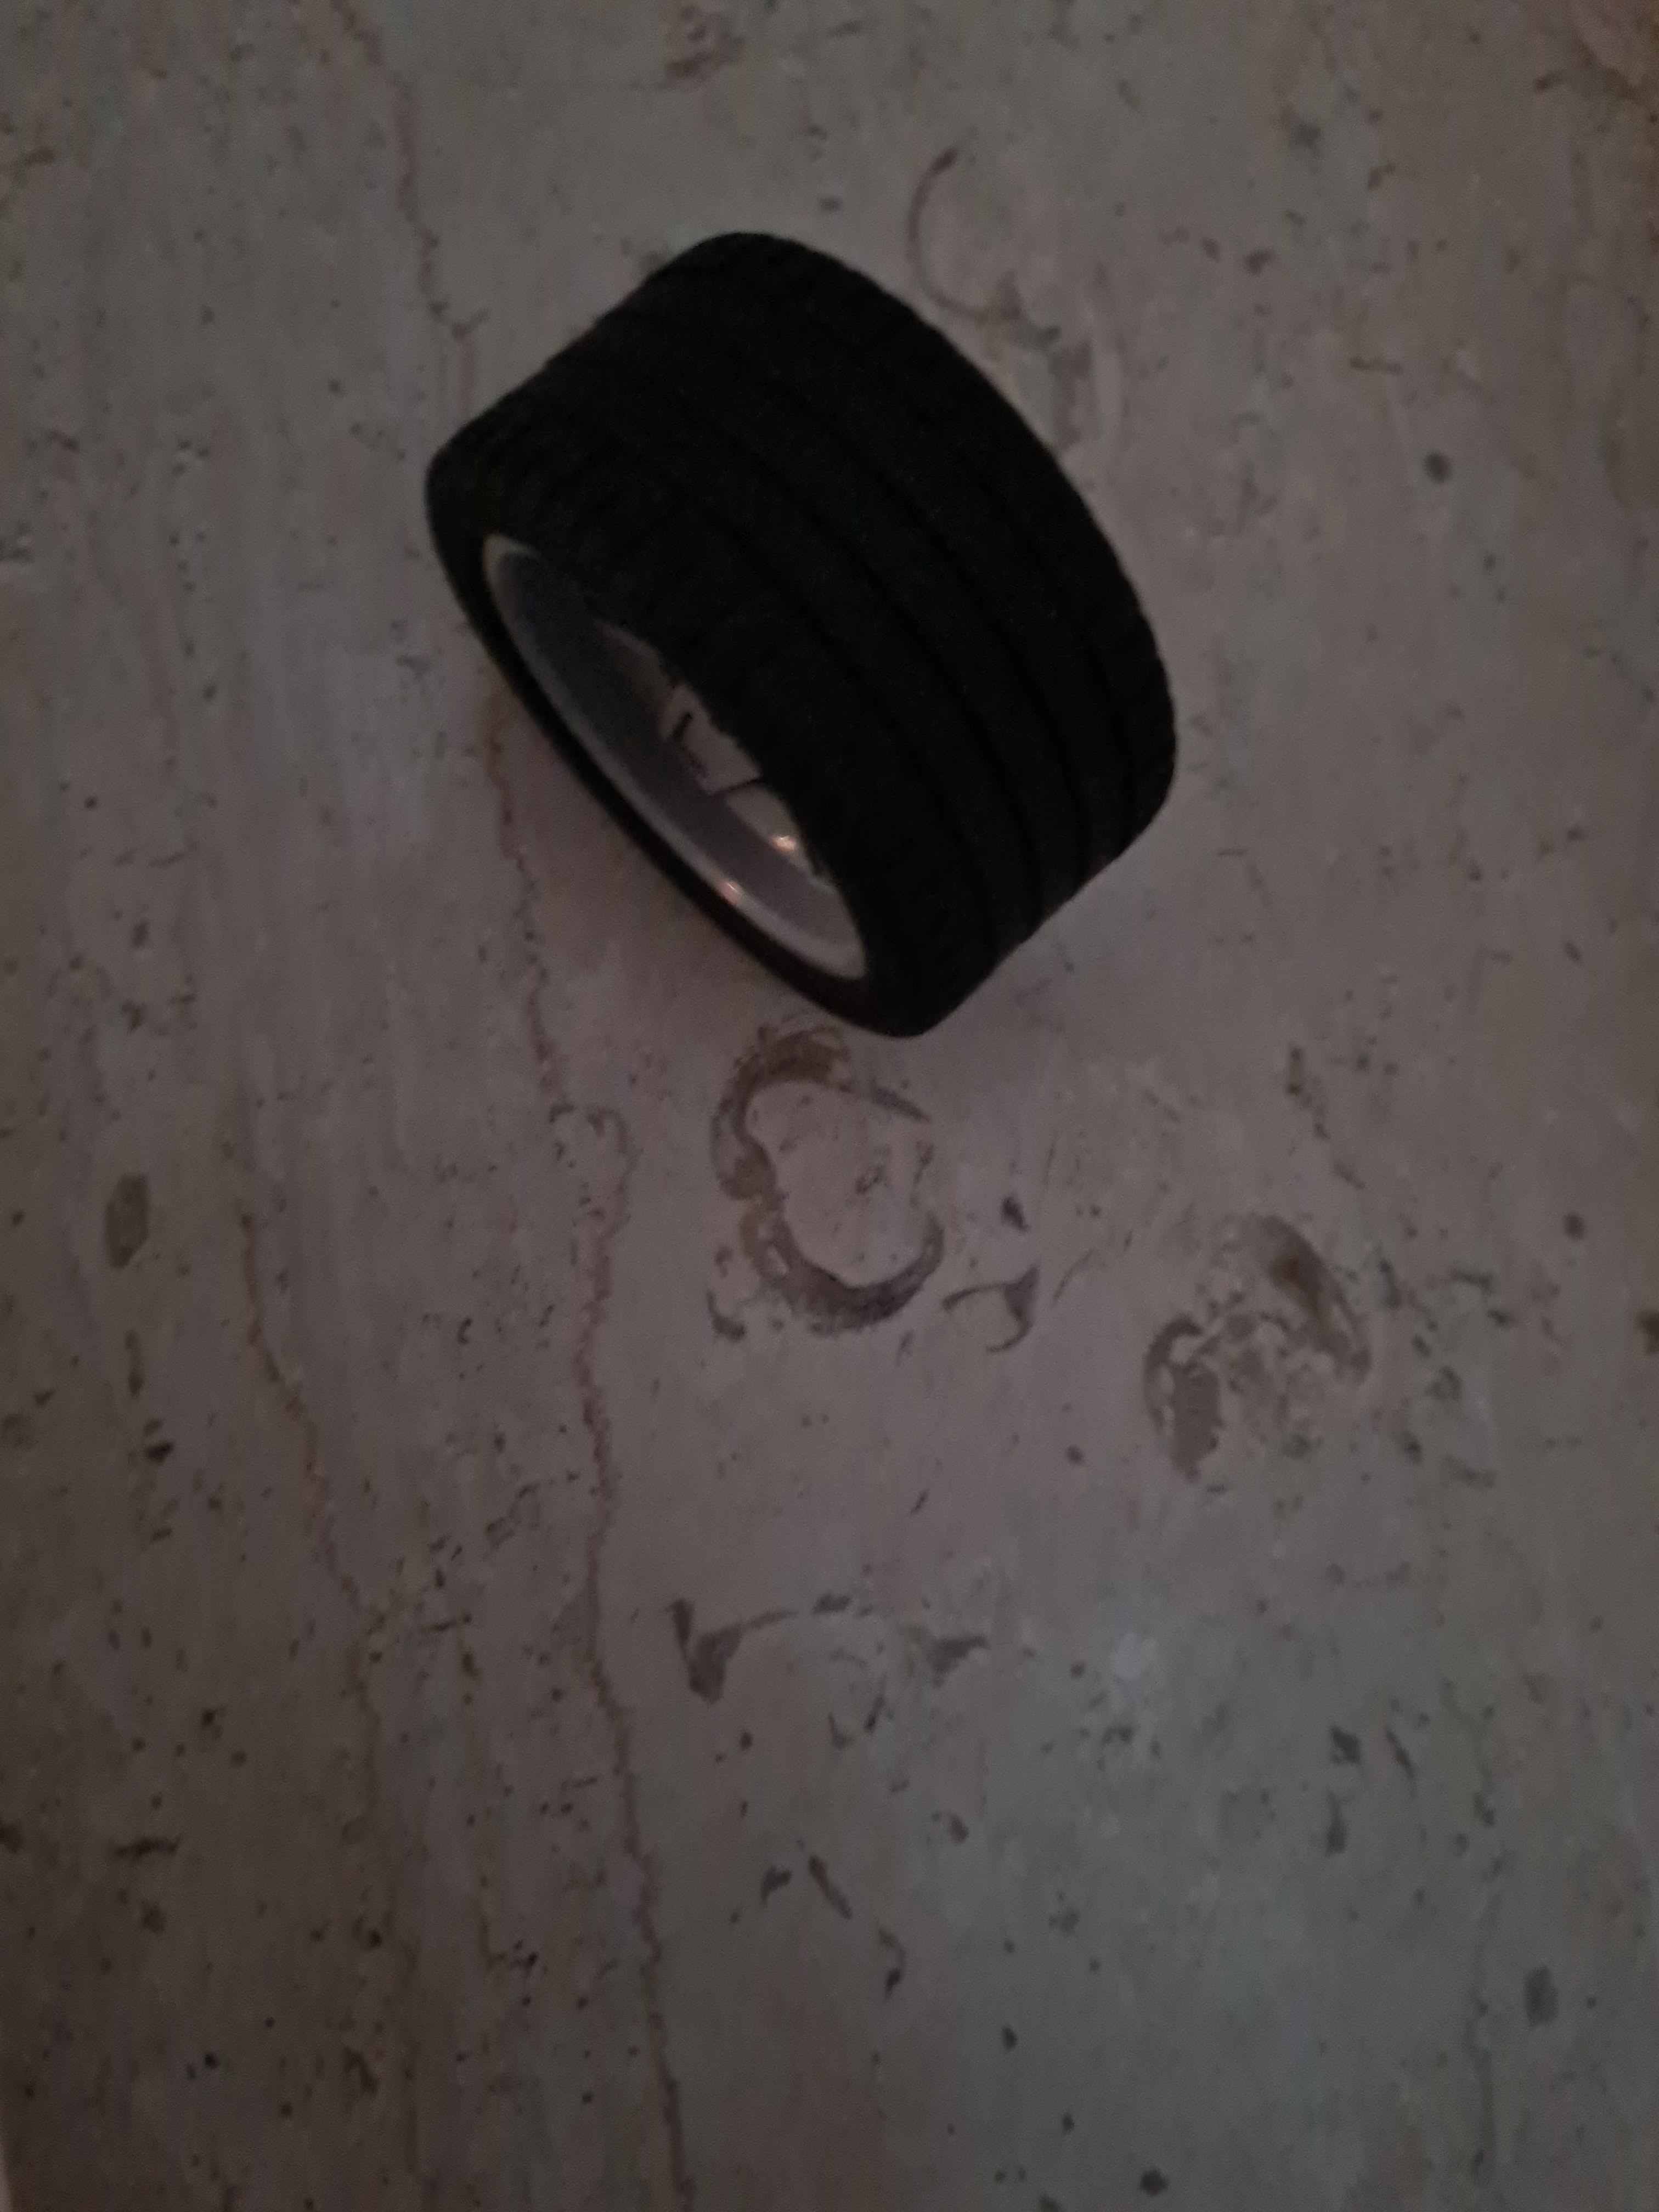Rad: (416, 226, 1183, 1049)
